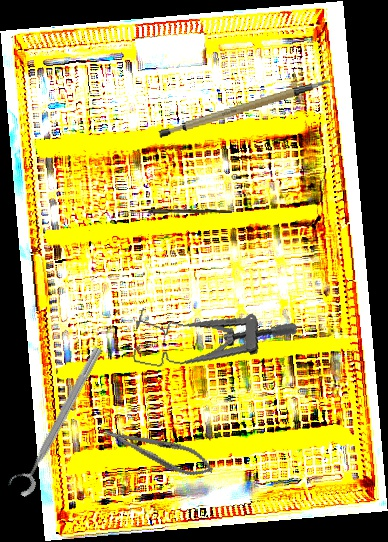Fixation Ring: (5, 339, 107, 500)
Needle Holder: (98, 417, 218, 484)
Scalpel Handle: (154, 78, 338, 140)
Speculum: (129, 293, 298, 391)
Surgical Spoon: (120, 208, 233, 215)
